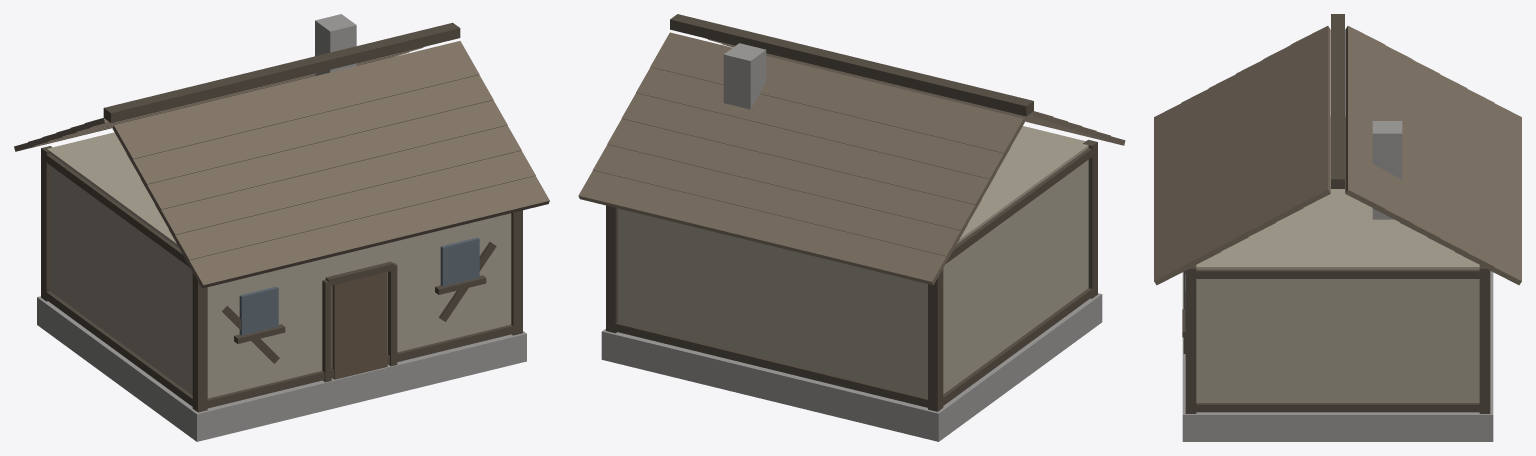
File: house.glb
The picture shows the model from 3 angles, left to right: view 1: azimuth 30°, elevation 25°; view 2: azimuth 150°, elevation 25°; view 3: azimuth 270°, elevation 25°; orthographic projection. The views are drawn at different scales.
Parts seen in each view (by area): view 1: House; view 2: House; view 3: House.
Boxes of the visible parts, box(x1,y1,x2,y2) form: House: box(14, 14, 549, 441); House: box(578, 14, 1125, 441); House: box(1154, 14, 1521, 441).
Bounding box in the file's own units: 6.6 × 5.1 × 6.2.
